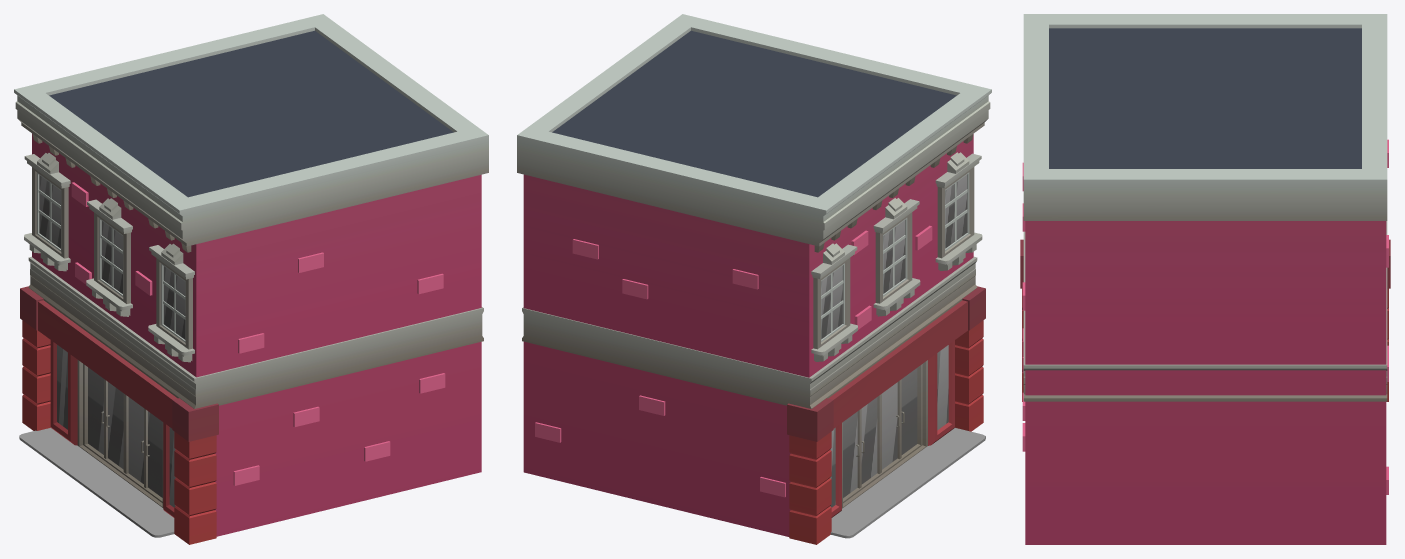
Rendered from Building_21_4_C.fbx.
3 views of the same model, side by side, from view 1: azimuth 30°, elevation 25°; view 2: azimuth 150°, elevation 25°; view 3: azimuth 270°, elevation 25° (orthographic). The views are drawn at different scales.
Visible parts, largest first — view 1: Building_21_4_C; view 2: Building_21_4_C; view 3: Building_21_4_C.
Boxes of the visible parts, x1,y1,x2,y2 form: Building_21_4_C: (14, 14, 488, 544); Building_21_4_C: (517, 14, 991, 544); Building_21_4_C: (1020, 14, 1390, 544).
Bounding box in the file's own units: 779 × 782 × 713.
